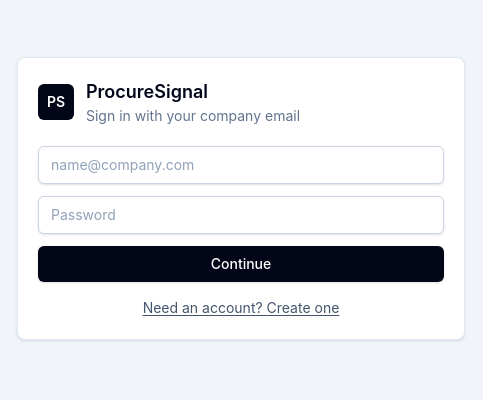
Test: AuthGate › reports the field named by a server validation error
Click the button "Need an account? Create one" at (241, 308), box [38,298,444,318]
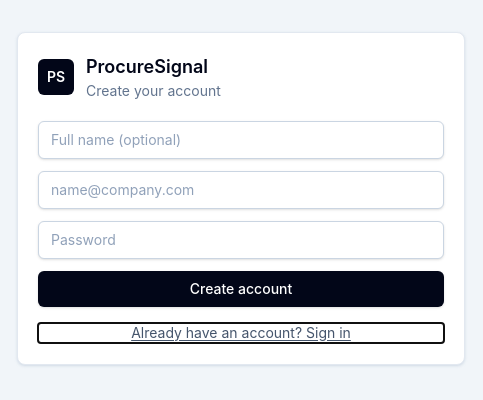
Type "buyer@example.com" into the field named "Company email" at (241, 190), box [38,170,444,208]
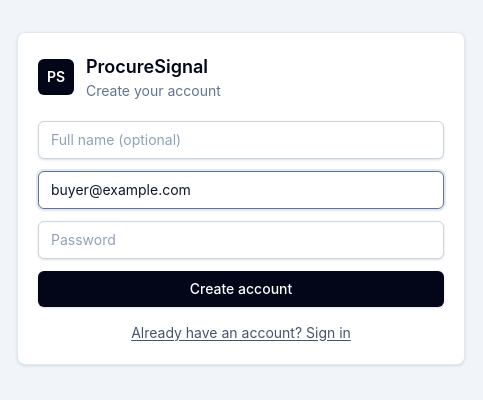
Type "a-sufficiently-long-password" into the password field labelled "Password" at (241, 240), box [38,220,444,258]
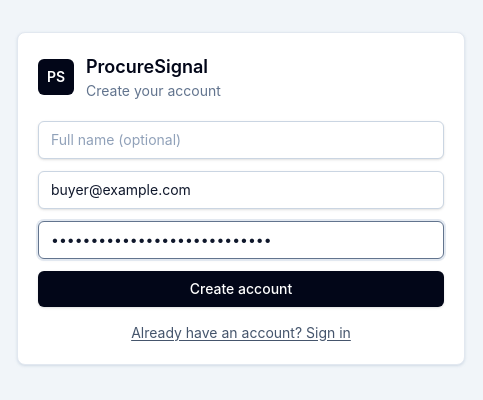
Click the button "Create account" at (241, 288), box [38,270,444,306]
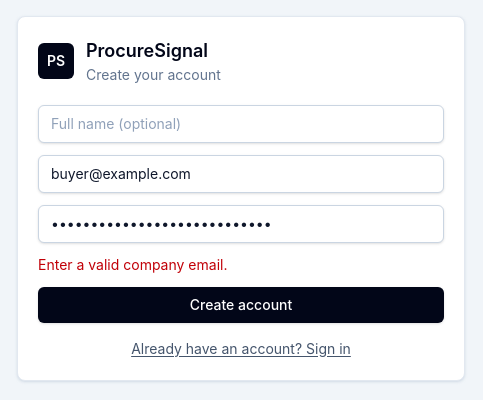
Check: the message does not show "Password", box [38,256,228,272]
Check: the message shows "valid company email", box [38,256,228,272]
